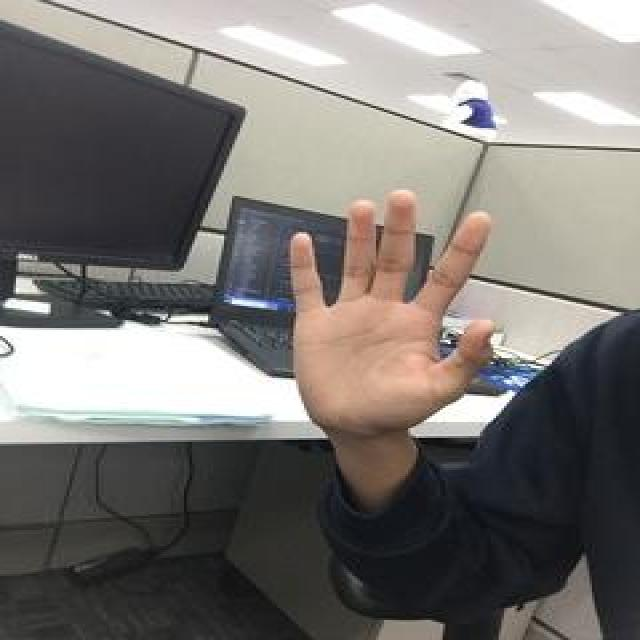hand: (284, 184, 497, 436)
